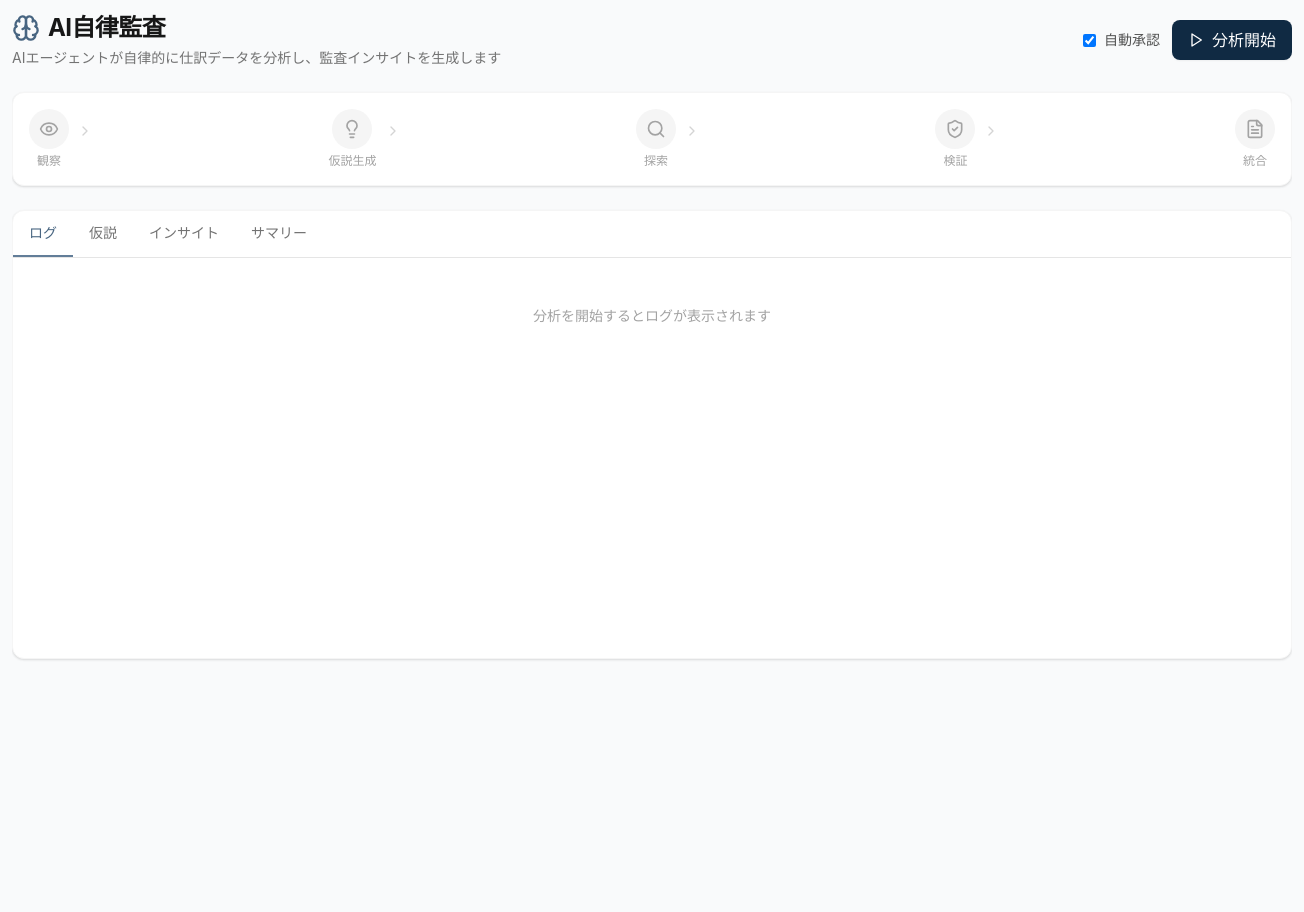
AutonomousAuditPage › switches to hypotheses tab and shows empty message
The image size is (1304, 912).
Click the button "仮説" at coordinates (103, 234), box x1=73 y1=211 x2=133 y2=257
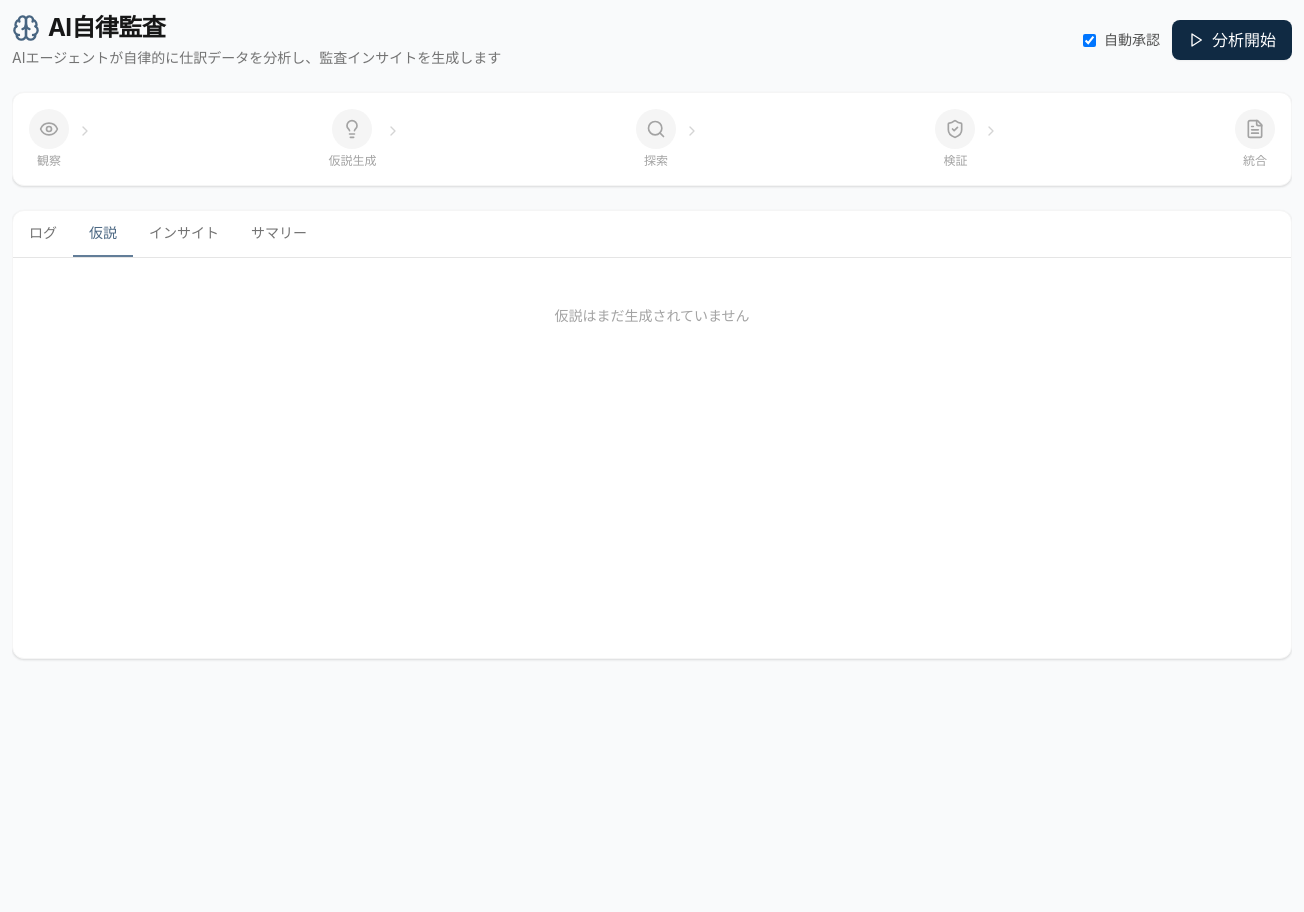
Expected: the text "仮説はまだ生成されていません" is shown, x1=554 y1=307 x2=750 y2=324
